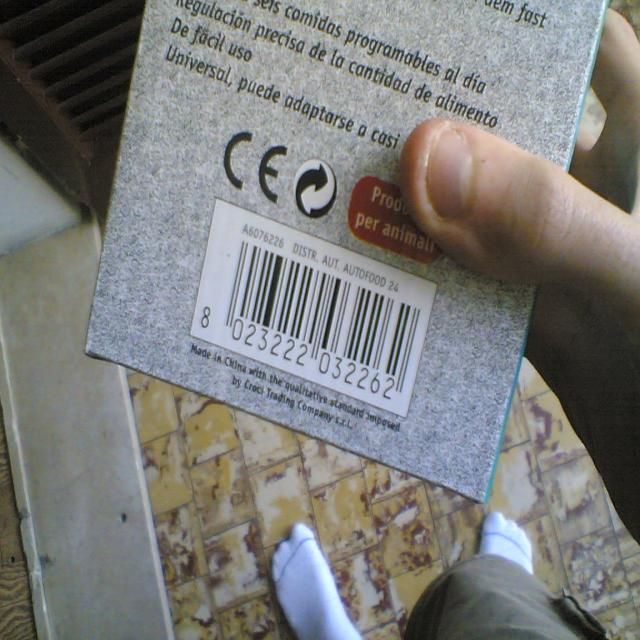barcode: (191, 201, 436, 417)
